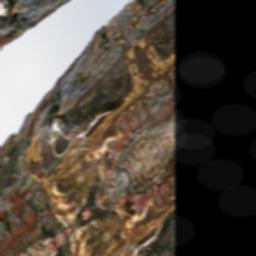Woodpecker: (41, 64, 129, 173)
